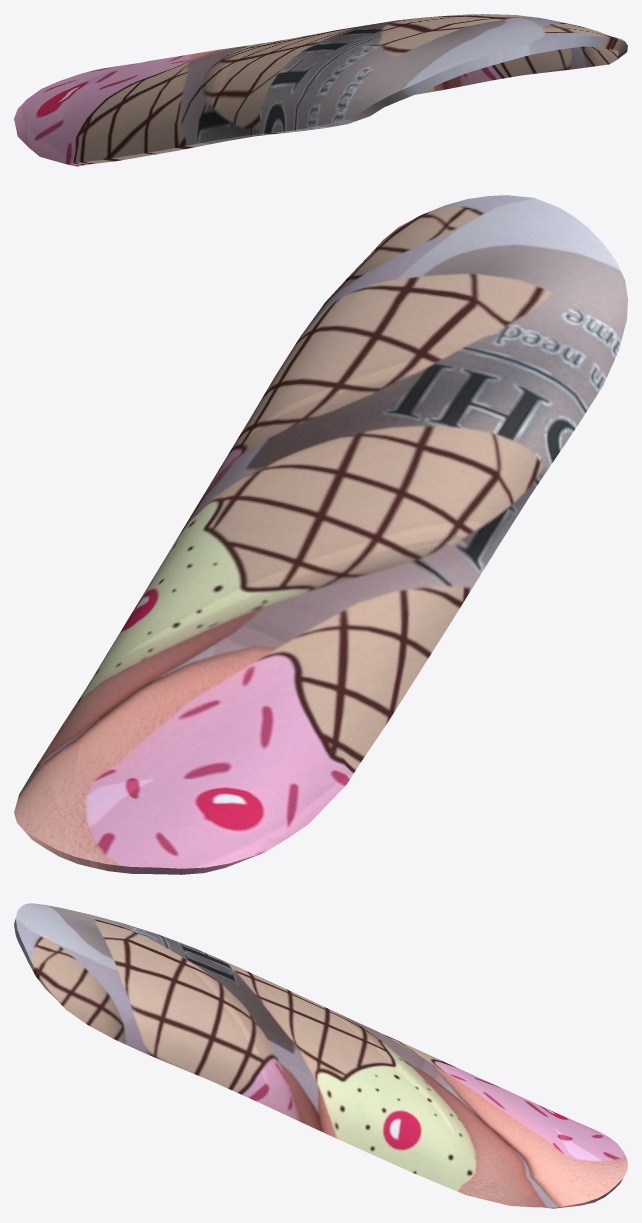
The picture shows the model from 3 angles, top to bottom: view 1: azimuth 30°, elevation 25°; view 2: azimuth 150°, elevation 25°; view 3: azimuth 270°, elevation 25°; orthographic projection. The views are drawn at different scales.
Parts seen in each view (by area): view 1: OBJ_24, OBJ_28, OBJ_27, OBJ_30, OBJ_29; view 2: OBJ_24, OBJ_27, OBJ_28, OBJ_30, OBJ_29, OBJ_32, OBJ_31; view 3: OBJ_24, OBJ_32, OBJ_31, OBJ_30, OBJ_27, OBJ_29.
Part boxes in pixels (x1,y1,x2,y2): OBJ_24: (60,14,627,166); OBJ_28: (27,79,77,166); OBJ_27: (14,64,128,146); OBJ_30: (62,61,145,101); OBJ_29: (62,63,138,93); OBJ_24: (63,195,627,785); OBJ_27: (66,793,287,874); OBJ_28: (149,781,346,842); OBJ_30: (72,744,262,814); OBJ_29: (70,784,214,839); OBJ_32: (14,763,92,867); OBJ_31: (38,724,80,818); OBJ_24: (14,903,551,1194); OBJ_32: (510,1165,627,1208); OBJ_31: (466,1158,595,1205); OBJ_30: (533,1103,575,1165); OBJ_27: (575,1123,627,1171); OBJ_29: (563,1117,602,1166).
Size of the model in its own units: 143 by 170 by 377.
